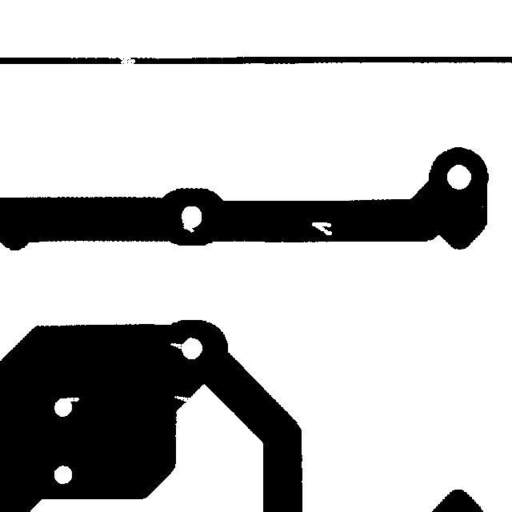mousebite: (162, 335, 195, 358), (166, 388, 201, 409), (175, 216, 202, 240), (57, 390, 86, 409)
open: (111, 49, 146, 75)
pin-hole: (304, 214, 339, 242)
